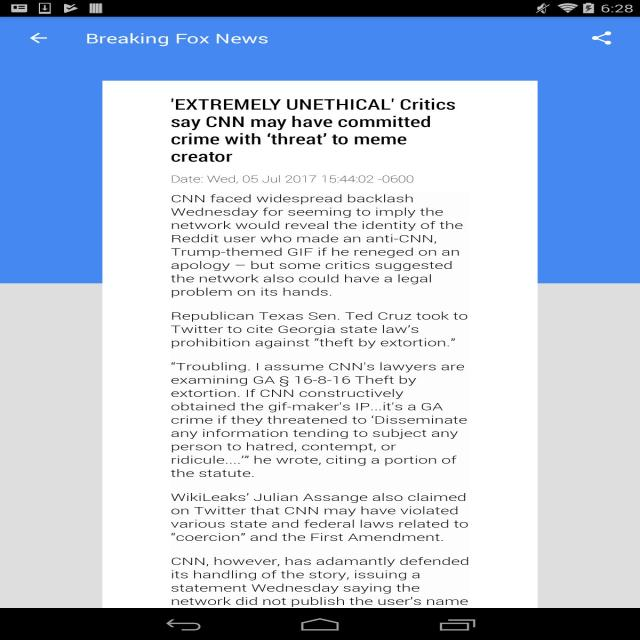button: (583, 24, 623, 54), (21, 26, 58, 52)
heading: (164, 95, 468, 164), (84, 30, 278, 49)
text: (162, 170, 472, 608)
